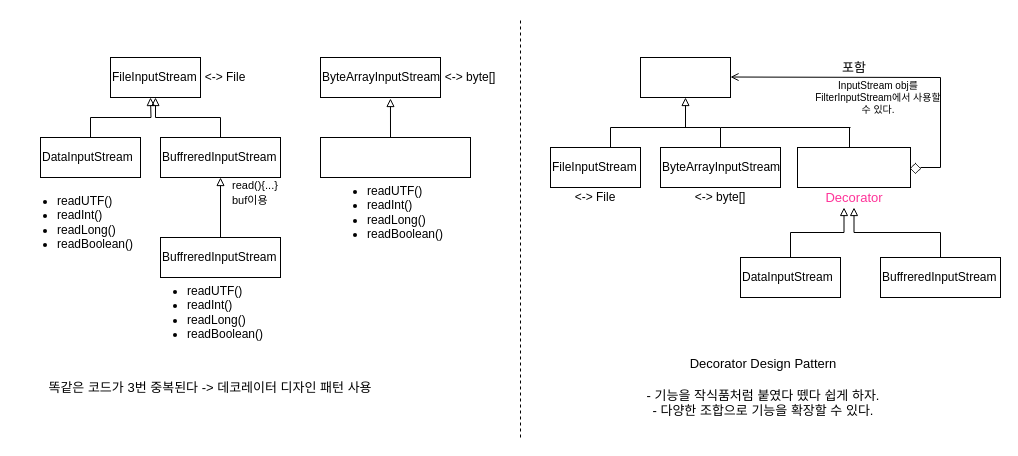
Image size: 1018x456. Some labels were removed from this diagram. The shapes that lost their labels are listed below. From the top down, each one's centre as x and y in pixels, then its label:
(x=685, y=77): <<abstract>> InputStream
(x=395, y=157): ByteArrayDataInputStream
(x=853, y=167): <<abstract>> FilterInputStream
